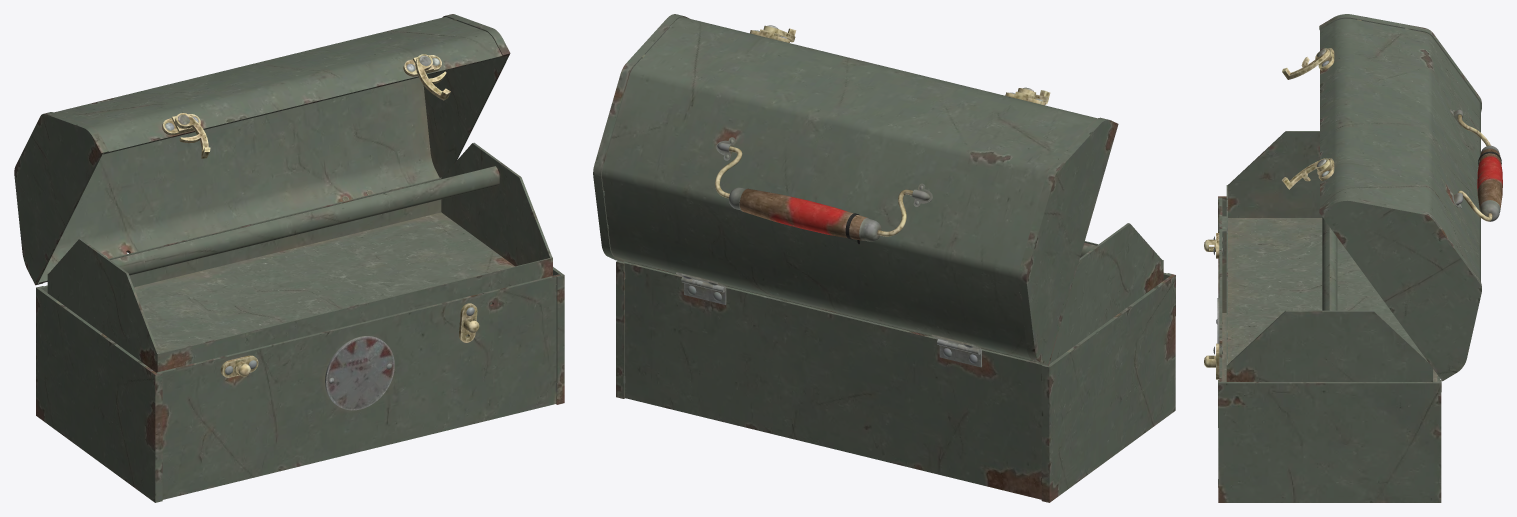
Rendered from metal_toolbox.glb.
3 views of the same model, side by side, from view 1: azimuth 30°, elevation 25°; view 2: azimuth 150°, elevation 25°; view 3: azimuth 270°, elevation 25° (orthographic). The views are drawn at different scales.
Visible parts, largest first — view 1: Cylinder.015, metal_toolbox, metal_toolbox_tray, metal_toolbox_handle_latch_r, metal_toolbox_handle_latch_l; view 2: Cylinder.015, metal_toolbox, metal_toolbox_tray, metal_toolbox_handle; view 3: Cylinder.015, metal_toolbox_tray, metal_toolbox, metal_toolbox_handle, metal_toolbox_handle_latch_l, metal_toolbox_handle_latch_r.
Boxes of the visible parts, x1,y1,x2,y2 form: Cylinder.015: (14,14,510,285); metal_toolbox: (36,267,564,502); metal_toolbox_tray: (47,142,552,372); metal_toolbox_handle_latch_r: (415,54,450,100); metal_toolbox_handle_latch_l: (175,113,210,158); Cylinder.015: (593,14,1118,365); metal_toolbox: (616,260,1175,502); metal_toolbox_tray: (628,223,1163,363); metal_toolbox_handle: (715,146,912,244); Cylinder.015: (1317,14,1481,381); metal_toolbox_tray: (1226,131,1432,381); metal_toolbox: (1204,196,1441,502); metal_toolbox_handle: (1457,114,1502,221); metal_toolbox_handle_latch_l: (1282,48,1330,79); metal_toolbox_handle_latch_r: (1282,158,1330,189).
Bounding box in the file's own units: 0.4 × 0.3047 × 0.2705.
1 material, 1 textured.
